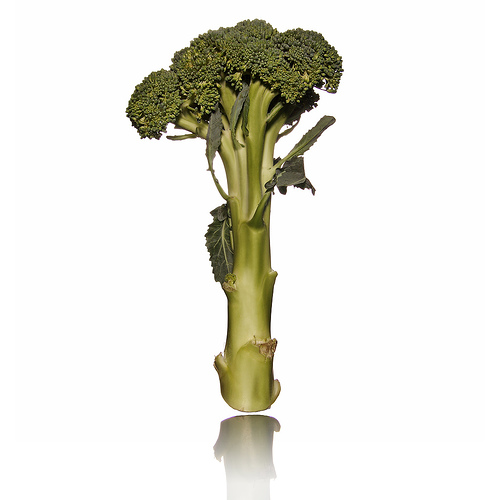broccoli: (127, 17, 348, 415)
